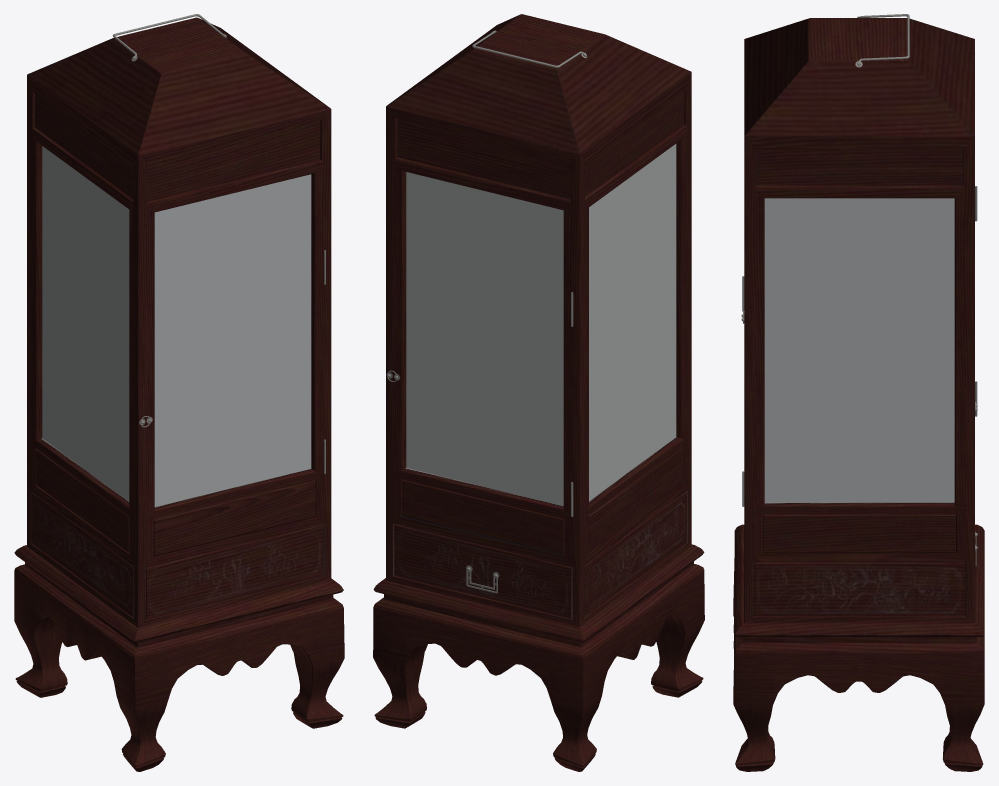
Rendered from gt_light.glb.
3 renders of one model, left to right at view 1: azimuth 30°, elevation 25°; view 2: azimuth 150°, elevation 25°; view 3: azimuth 270°, elevation 25°, orthographic. The views are drawn at different scales.
Visible parts, largest first — view 1: SM_GTJ_Light; view 2: SM_GTJ_Light; view 3: SM_GTJ_Light.
Boxes of the visible parts, x1=… form: SM_GTJ_Light: x1=14, y1=14, x2=344, y2=771; SM_GTJ_Light: x1=373, y1=14, x2=704, y2=771; SM_GTJ_Light: x1=733, y1=14, x2=984, y2=771.
Bounding box in the file's own units: 0.3369 × 1.02 × 0.3376.
Materials: 2 (2 with a texture image).
